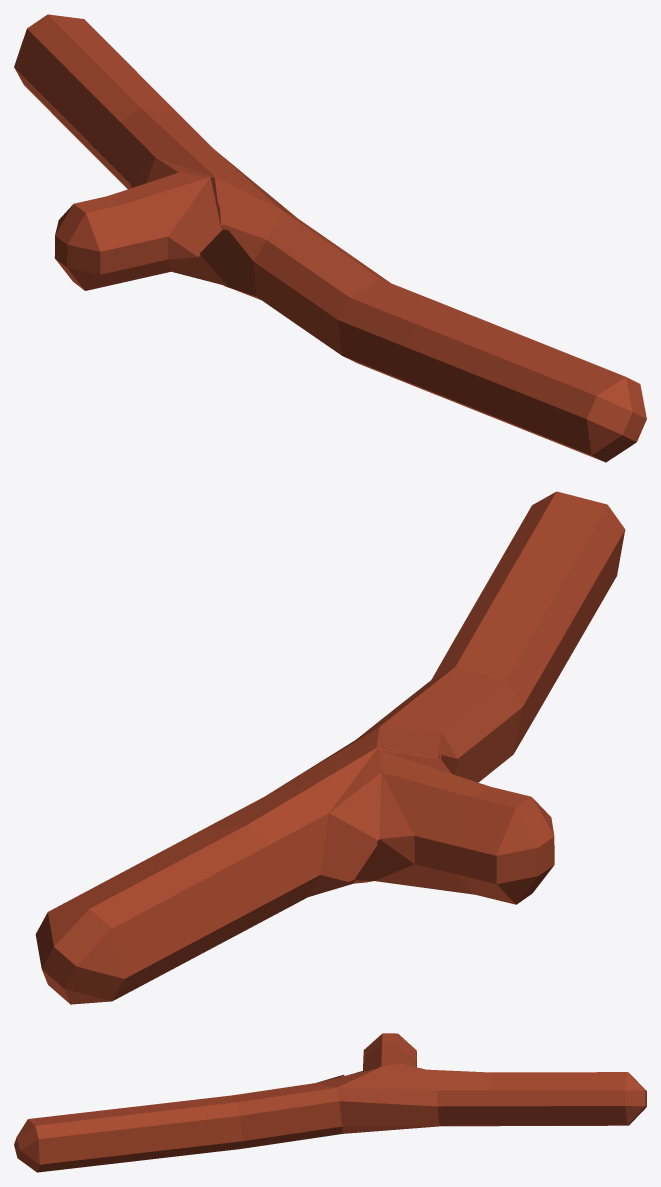
The model's file is Stick5.fbx.
The picture shows the model from 3 angles, top to bottom: view 1: azimuth 30°, elevation 25°; view 2: azimuth 150°, elevation 25°; view 3: azimuth 270°, elevation 25°; orthographic projection. The views are drawn at different scales.
Visible parts, largest first — view 1: Vert; view 2: Vert; view 3: Vert.
Boxes of the visible parts, x1,y1,x2,y2 form: Vert: (14,14,646,462); Vert: (35,491,625,1004); Vert: (14,1033,646,1172).
Bounding box in the file's own units: 23.94 × 8.8 × 70.2.
